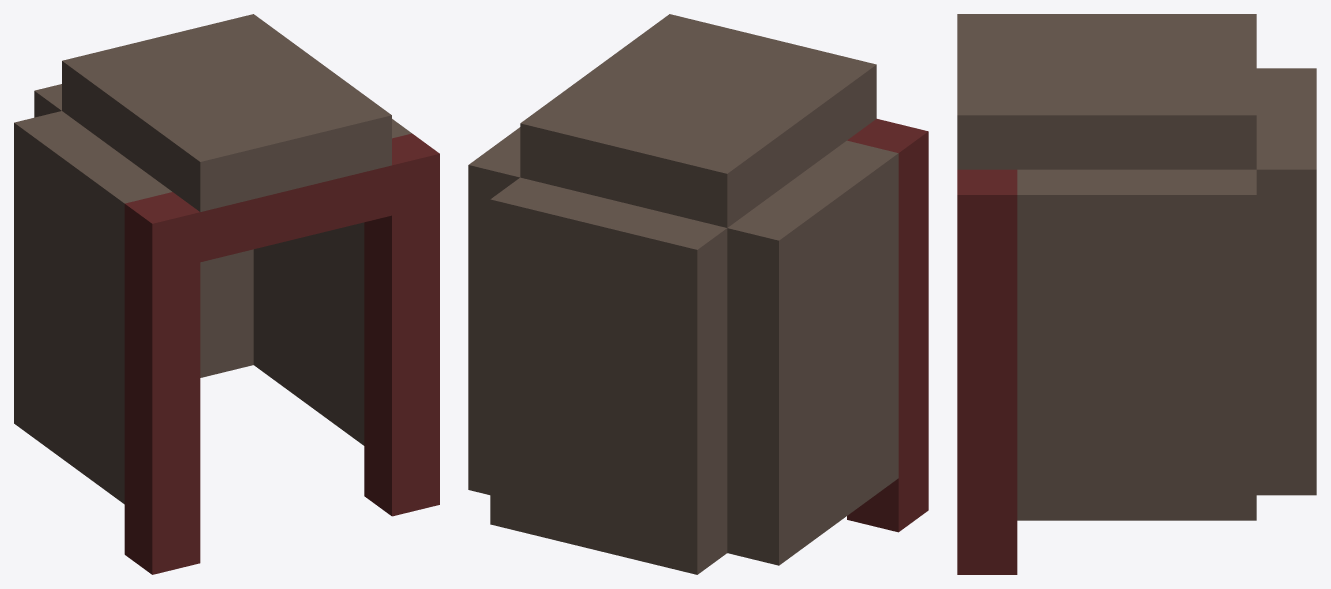
File: characters_export_red-267-helm_lgt_1a_du_color.obj
3 views of the same model, side by side, from view 1: azimuth 30°, elevation 25°; view 2: azimuth 150°, elevation 25°; view 3: azimuth 270°, elevation 25° (orthographic). The views are drawn at different scales.
Parts seen in each view (by area): view 1: helm_lgt_1a_du_color; view 2: helm_lgt_1a_du_color; view 3: helm_lgt_1a_du_color.
Part boxes in pixels (<box>): helm_lgt_1a_du_color: <box>14,14,439,574</box>; helm_lgt_1a_du_color: <box>468,14,928,574</box>; helm_lgt_1a_du_color: <box>957,14,1316,574</box>.
Bounding box in the file's own units: 0.6 × 0.8 × 0.6.
Materials: 1 (1 with a texture image).
